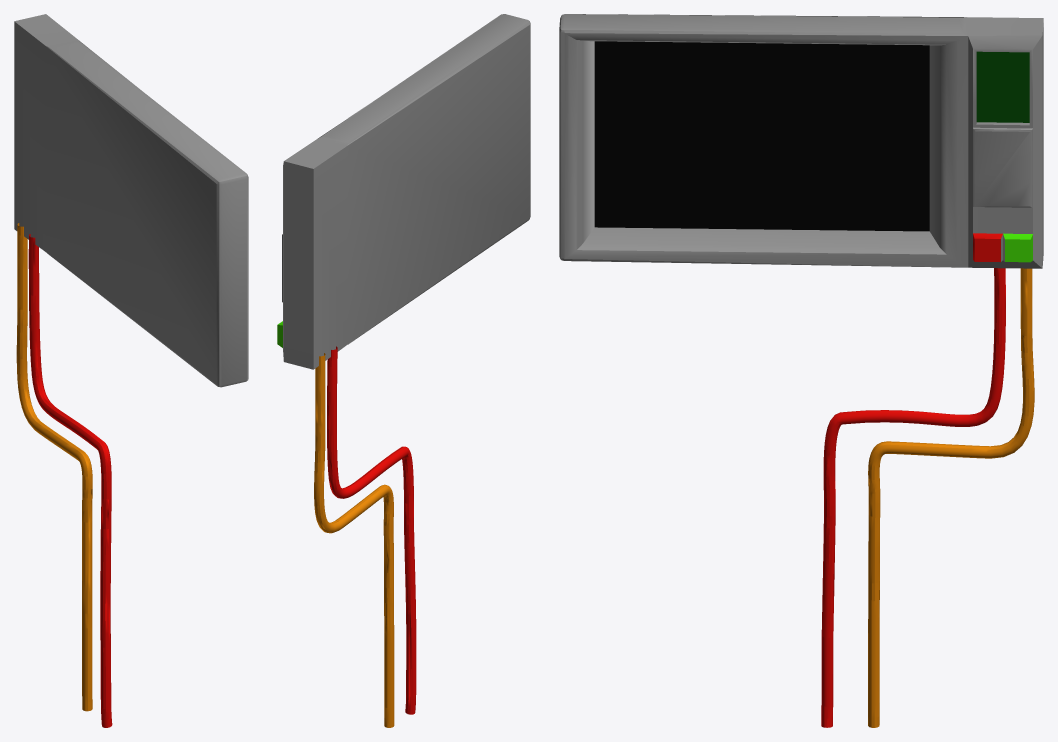
Rendered from SpaceShipMonitor2.glb.
The picture shows the model from 3 angles, left to right: view 1: azimuth 30°, elevation 25°; view 2: azimuth 150°, elevation 25°; view 3: azimuth 270°, elevation 25°; orthographic projection. The views are drawn at different scales.
Visible parts, largest first — view 1: ComputerScreen; view 2: ComputerScreen; view 3: ComputerScreen.
Boxes of the visible parts, x1,y1,x2,y2 form: ComputerScreen: [14, 14, 248, 727]; ComputerScreen: [277, 14, 530, 727]; ComputerScreen: [559, 14, 1043, 727].
Bounding box in the file's own units: 0.1203 × 1.34 × 0.829.
